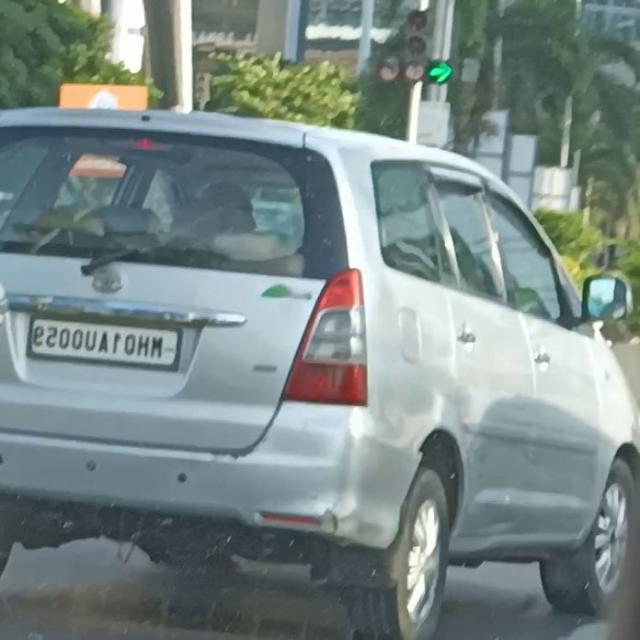license_plate: (21, 309, 186, 376)
